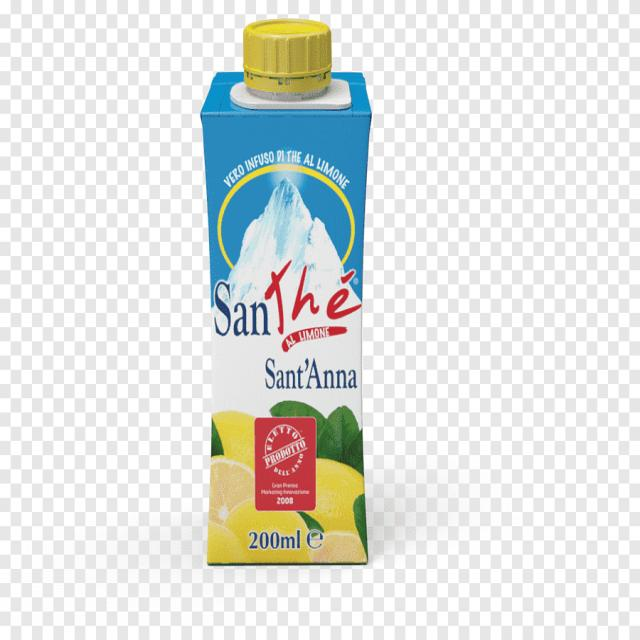non_white_jug: (184, 2, 369, 575)
